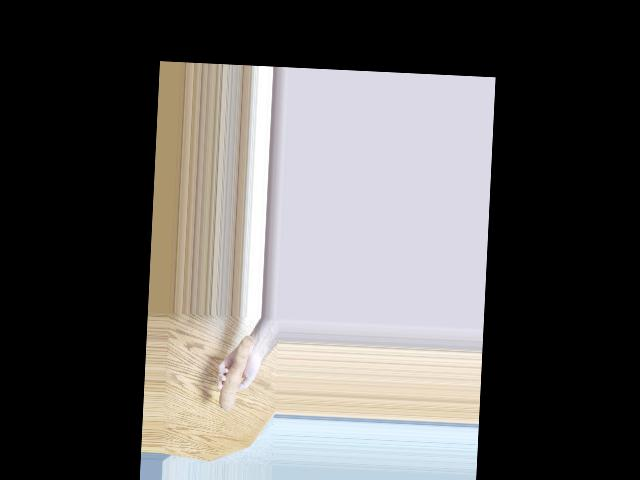sweet_potato: (217, 338, 249, 407)
